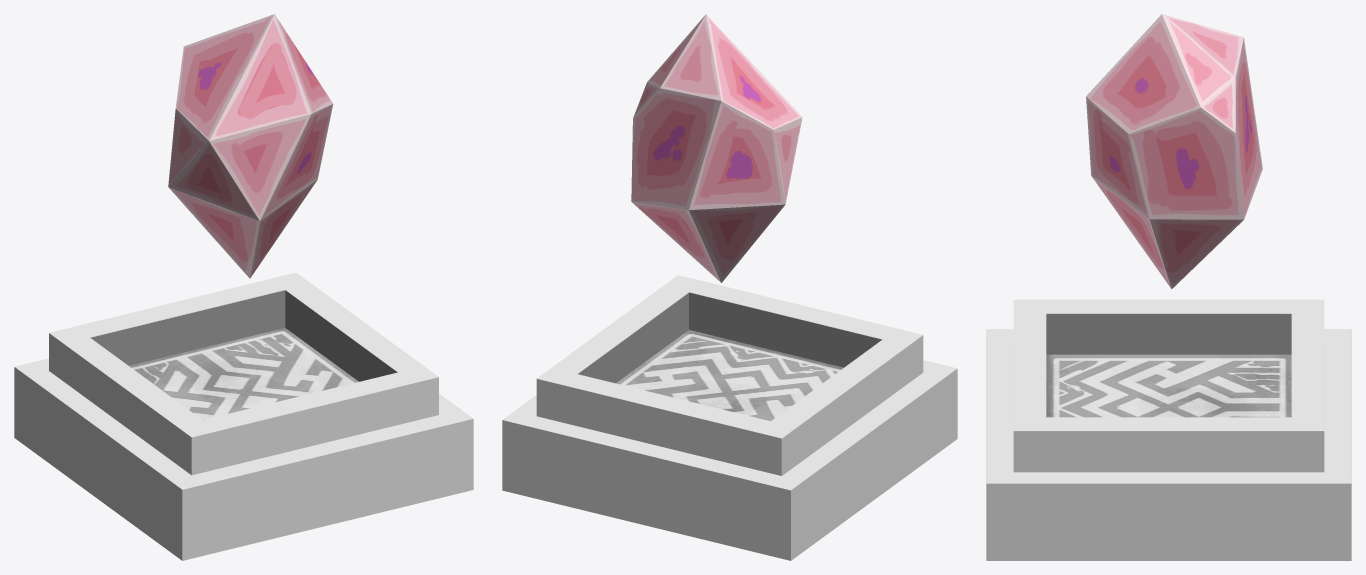
File: healingFountain_MESH.fbx
The picture shows the model from 3 angles, left to right: view 1: azimuth 30°, elevation 25°; view 2: azimuth 150°, elevation 25°; view 3: azimuth 270°, elevation 25°; orthographic projection. The views are drawn at different scales.
Parts seen in each view (by area): view 1: Fountain, Crystal; view 2: Fountain, Crystal; view 3: Fountain, Crystal.
Boxes of the visible parts, left/top/right/bottom form: Fountain: left=14, top=272, right=473, bottom=560; Crystal: left=168, top=14, right=333, bottom=278; Fountain: left=502, top=275, right=957, bottom=560; Crystal: left=631, top=14, right=802, bottom=282; Fountain: left=986, top=299, right=1351, bottom=560; Crystal: left=1086, top=14, right=1262, bottom=289.
Size of the model in its own units: 1 by 1.46 by 1.
